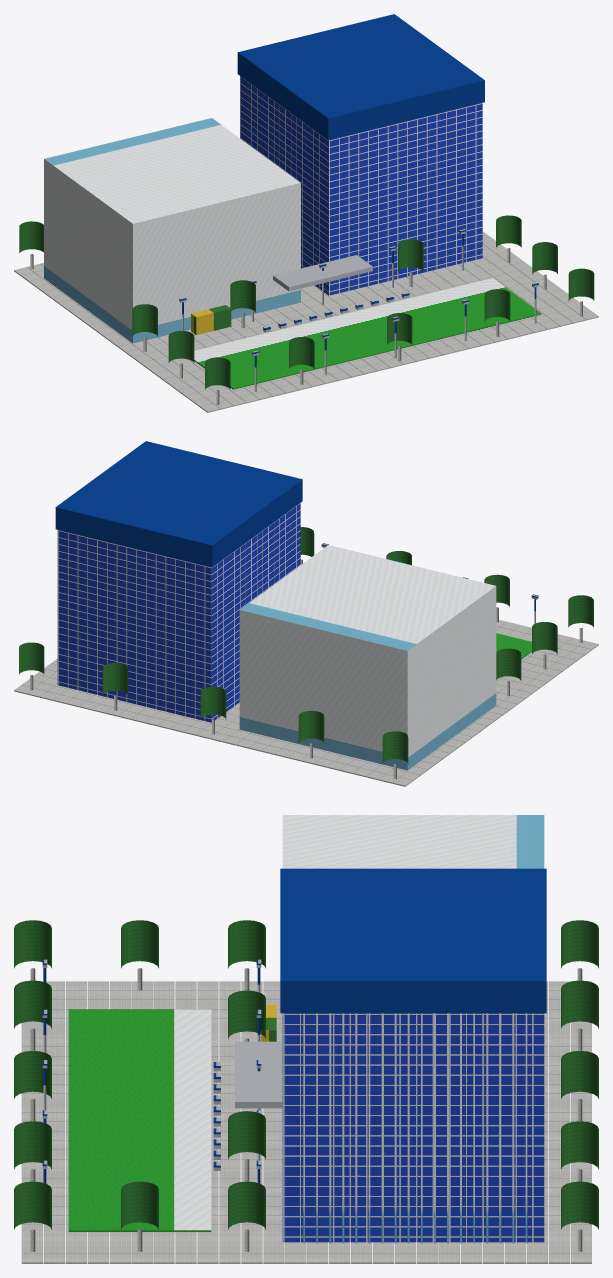
3 views of the same model, one above another, from view 1: azimuth 30°, elevation 25°; view 2: azimuth 150°, elevation 25°; view 3: azimuth 270°, elevation 25° (orthographic). The views are drawn at different scales.
Visible parts, largest first — view 1: 28185_B40_KBSI_Songdo_Center; view 2: 28185_B40_KBSI_Songdo_Center; view 3: 28185_B40_KBSI_Songdo_Center.
Part boxes in pixels (bbox=[...]): 28185_B40_KBSI_Songdo_Center: bbox=[14, 14, 598, 412]; 28185_B40_KBSI_Songdo_Center: bbox=[14, 441, 598, 786]; 28185_B40_KBSI_Songdo_Center: bbox=[14, 815, 598, 1263].
Size of the model in its own units: 55.95 by 24.5 by 49.2.
1 material, 1 textured.
